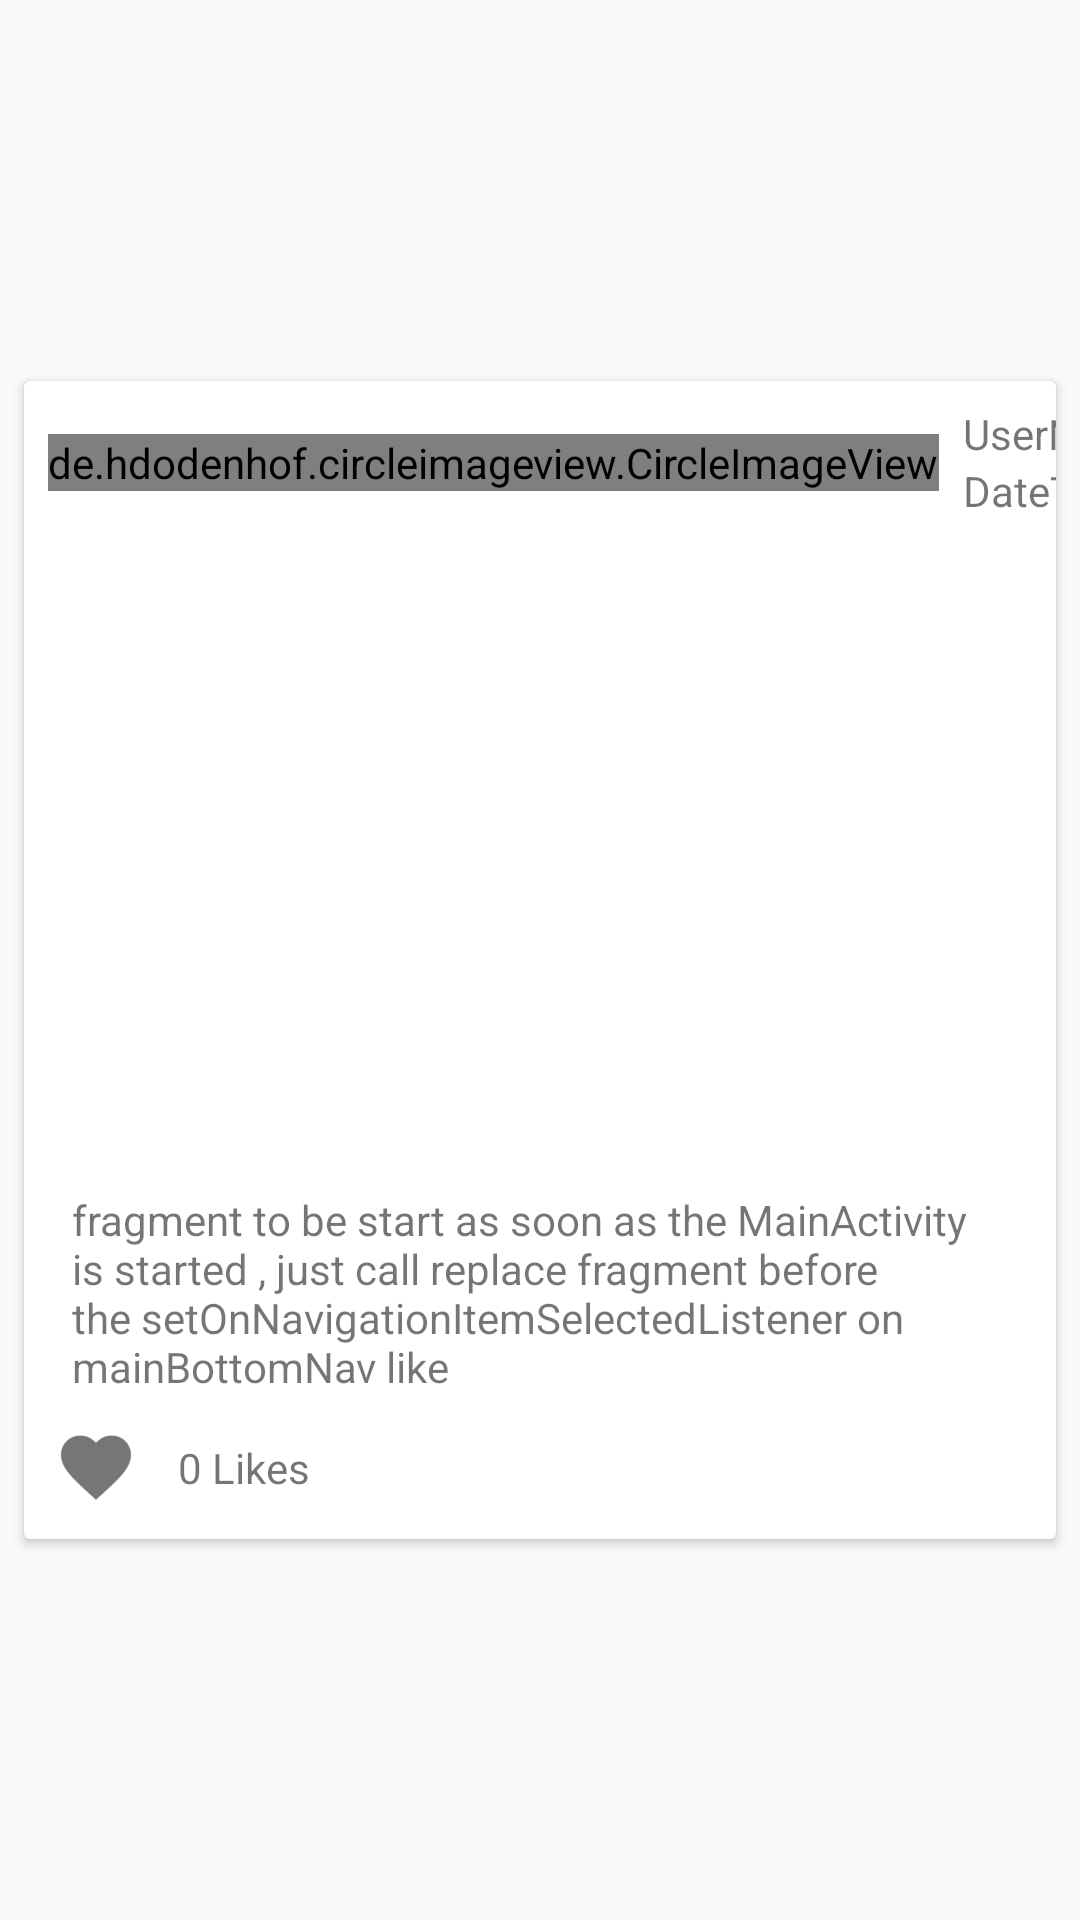

Named icons in this screenshot (1080px×1920px) and their centers, point (x, y):
fav: point (96, 1467)
